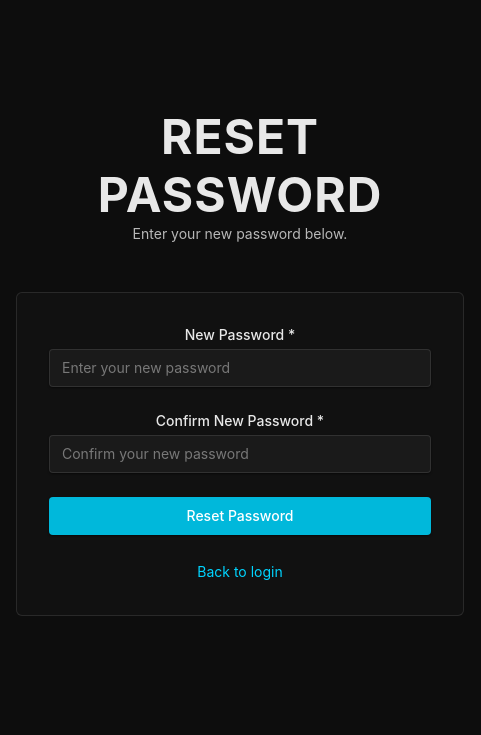
Test: ResetPasswordPage › Password Strength Validation › should clear field errors when user starts typing
Type "weak" into the password field labelled "New Password *" at (240, 368), box [49,349,431,387]
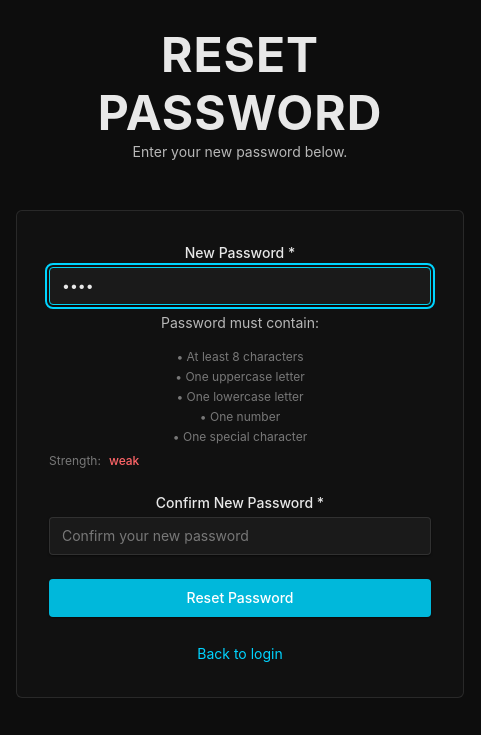
Press Tab
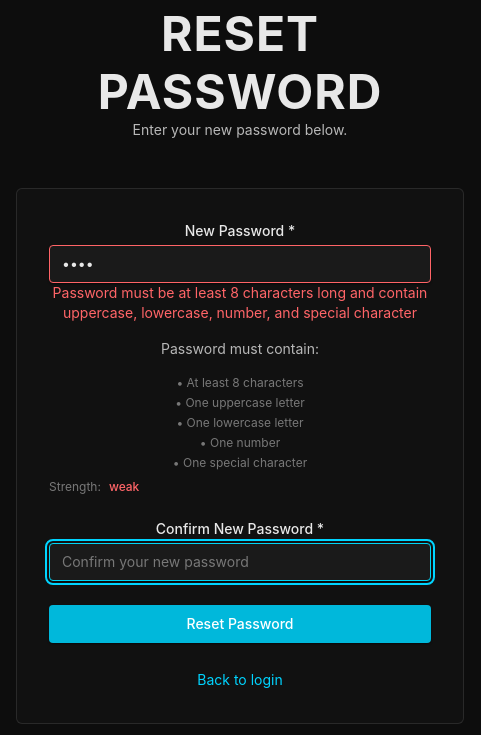
Check: the text "Password must be at least 8 characters" is shown, box [53,284,427,321]
Type "StrongPass123!" into the password field labelled "New Password *" at (240, 264), box [49,245,431,283]
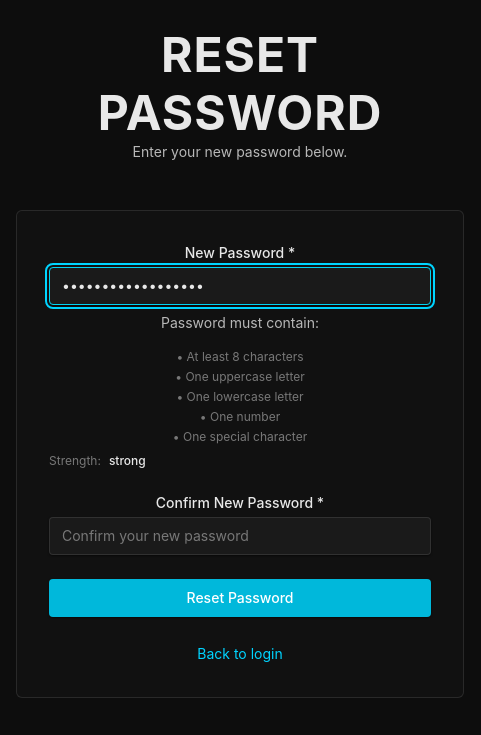
Check: the text "Password must be at least 8 characters" is gone
